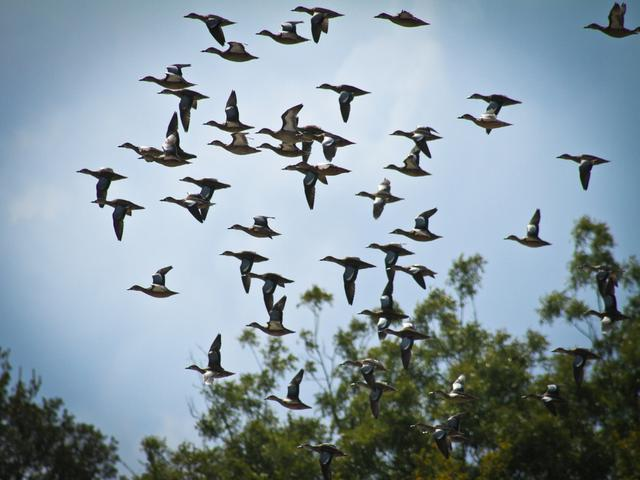bird: (54, 155, 136, 195)
